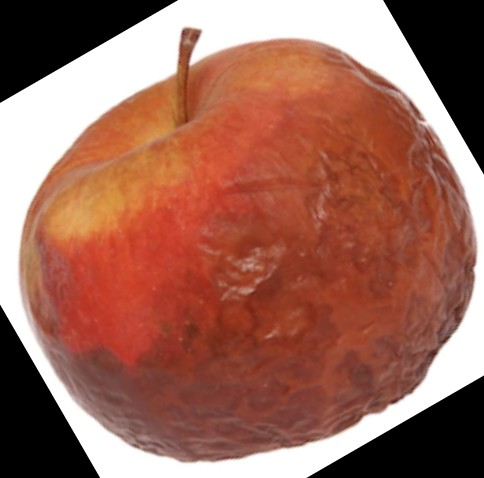rotten_apple: (21, 38, 476, 464)
